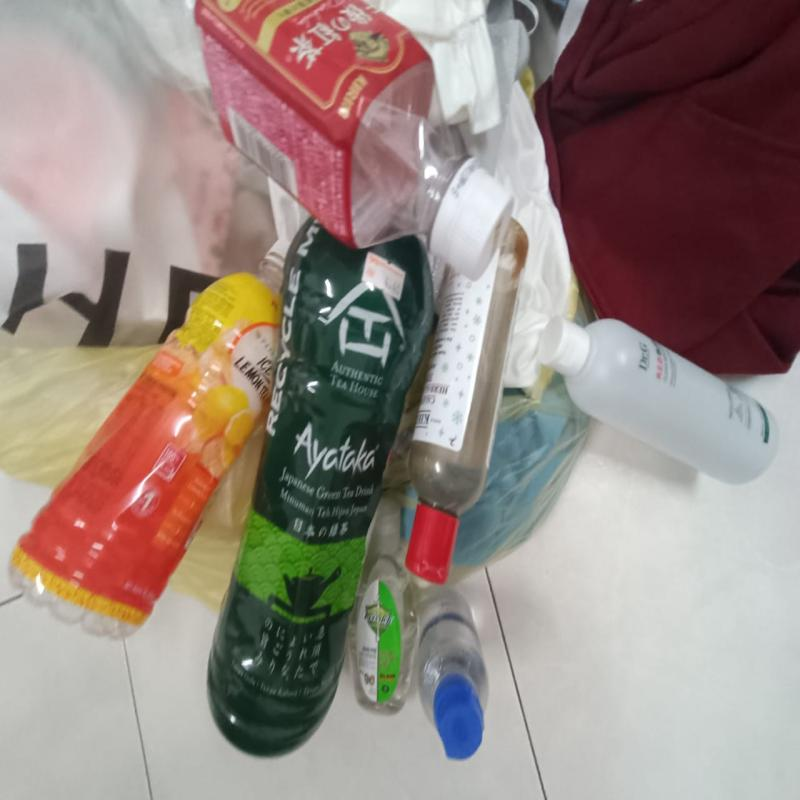botella: (201, 213, 438, 753), (15, 234, 294, 642), (124, 0, 515, 281)
